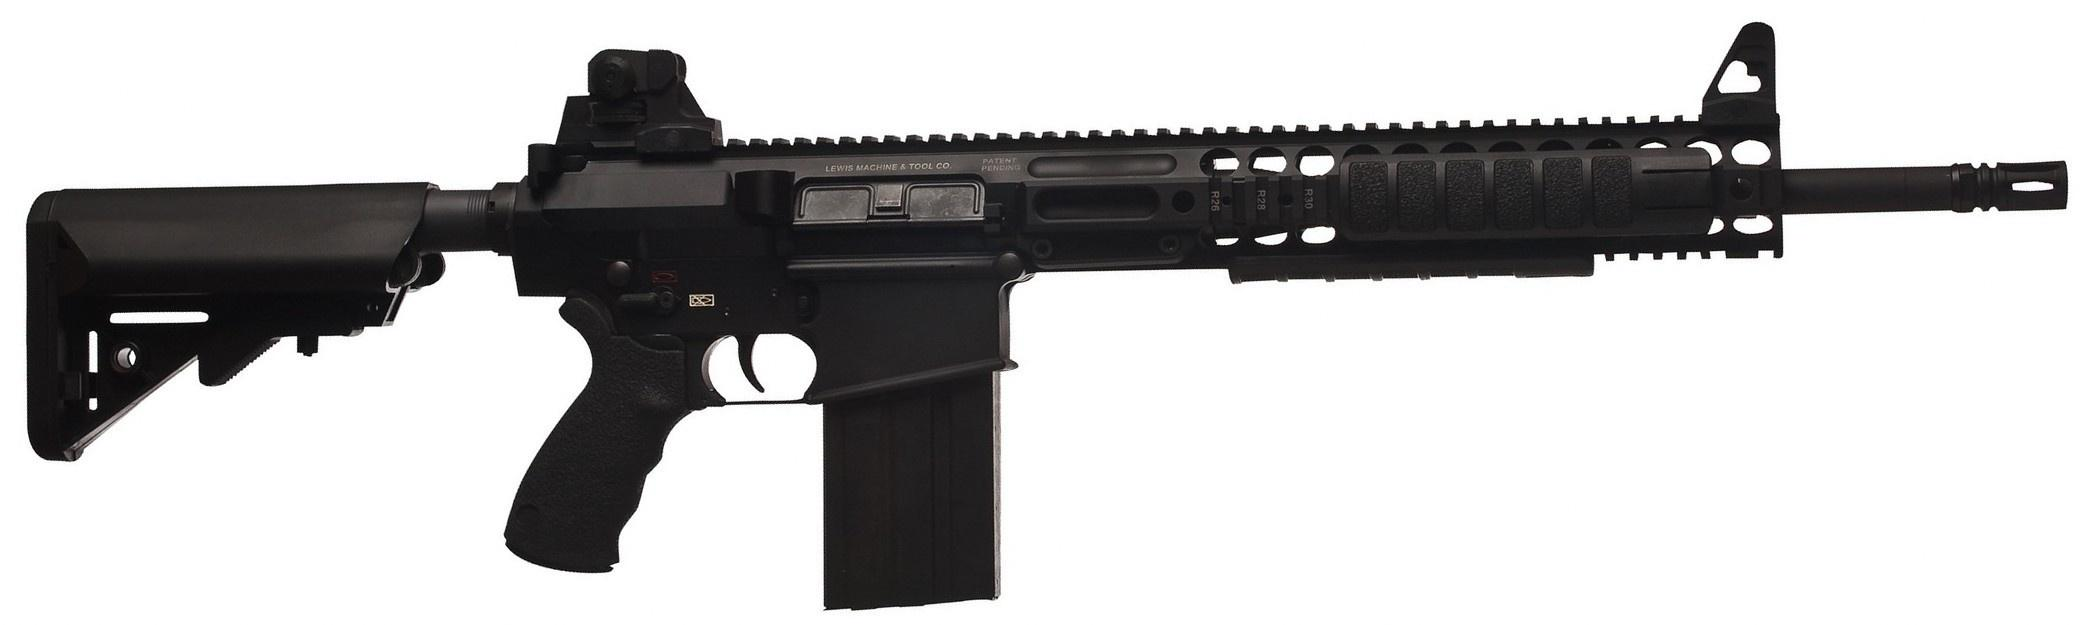blood: (23, 31, 2091, 613)
